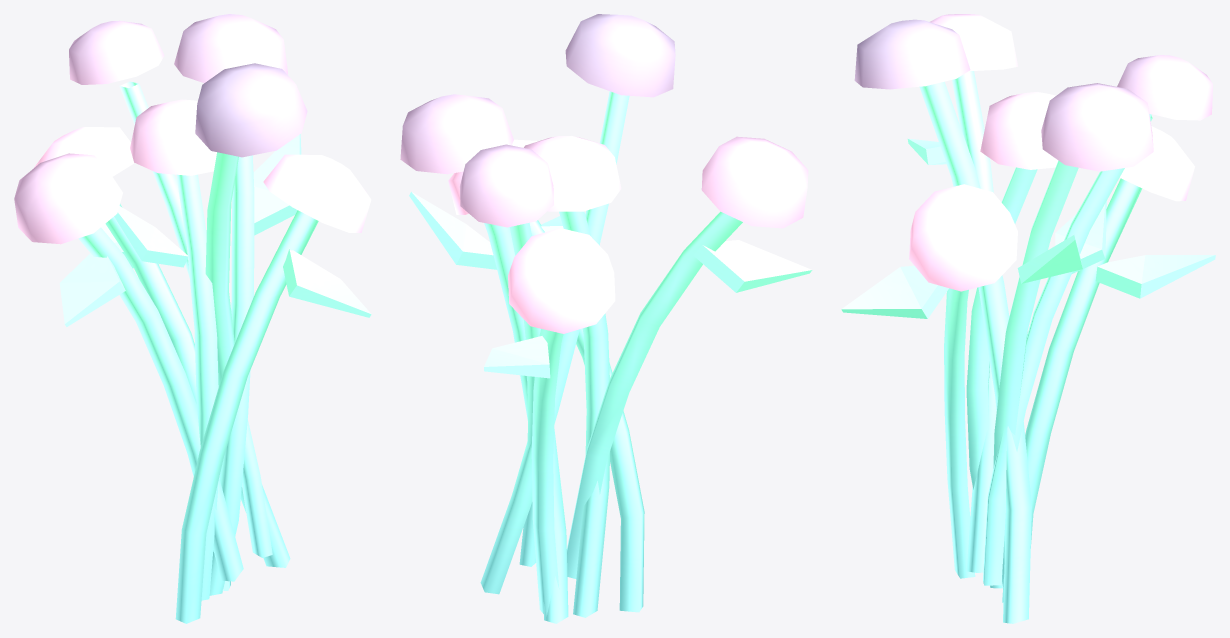
The model's file is Dandelion_Purple.glb.
3 views of the same model, side by side, from view 1: azimuth 30°, elevation 25°; view 2: azimuth 150°, elevation 25°; view 3: azimuth 270°, elevation 25° (orthographic). The views are drawn at different scales.
Visible parts, largest first — view 1: Dandelion_Purple_Material #150_0; view 2: Dandelion_Purple_Material #150_0; view 3: Dandelion_Purple_Material #150_0.
Boxes of the visible parts, left/top/right/bottom form: Dandelion_Purple_Material #150_0: left=14, top=14, right=371, bottom=623; Dandelion_Purple_Material #150_0: left=400, top=14, right=812, bottom=623; Dandelion_Purple_Material #150_0: left=841, top=14, right=1215, bottom=623.
Bounding box in the file's own units: 0.495 × 0.7697 × 0.4579.
